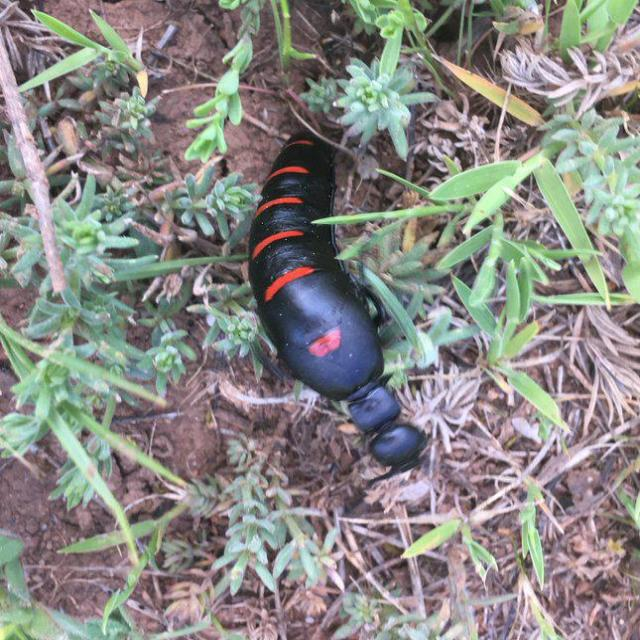BlisterBeetle-Adult-: (210, 120, 452, 480)
